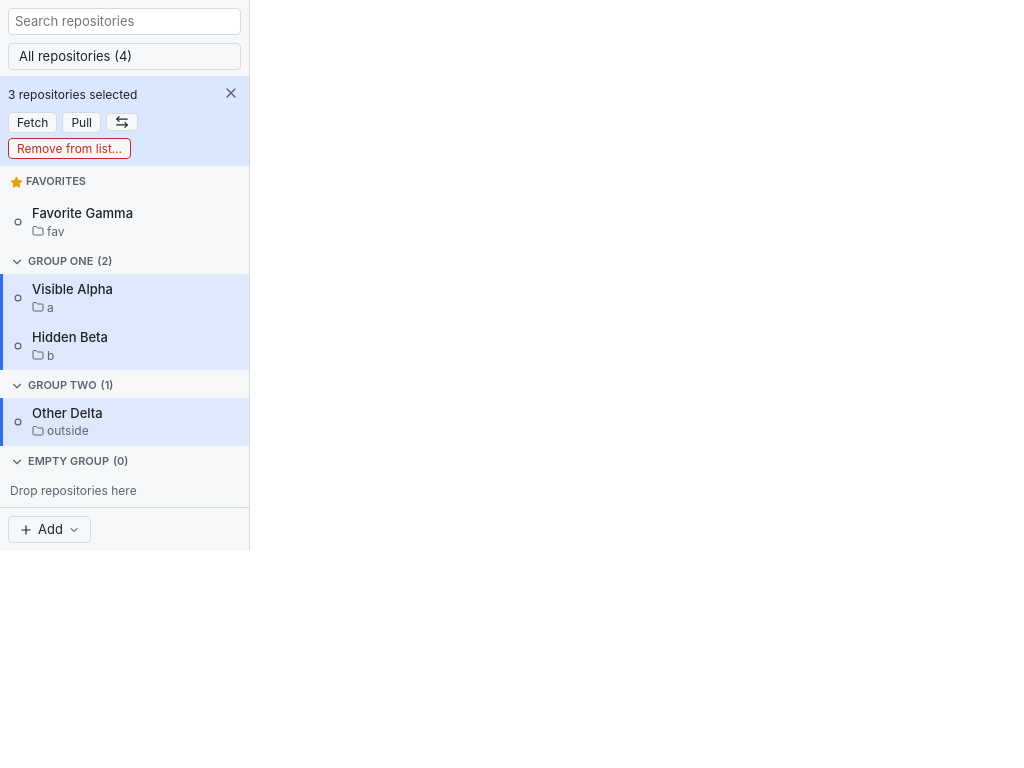
it: repository record removal › does nothing before confirmation or after canceling a group removal
The width and height of the screenshot is (1024, 768).
Right-click the button "Group One (2)" at (61, 262), box left=10, top=254, right=112, bottom=270
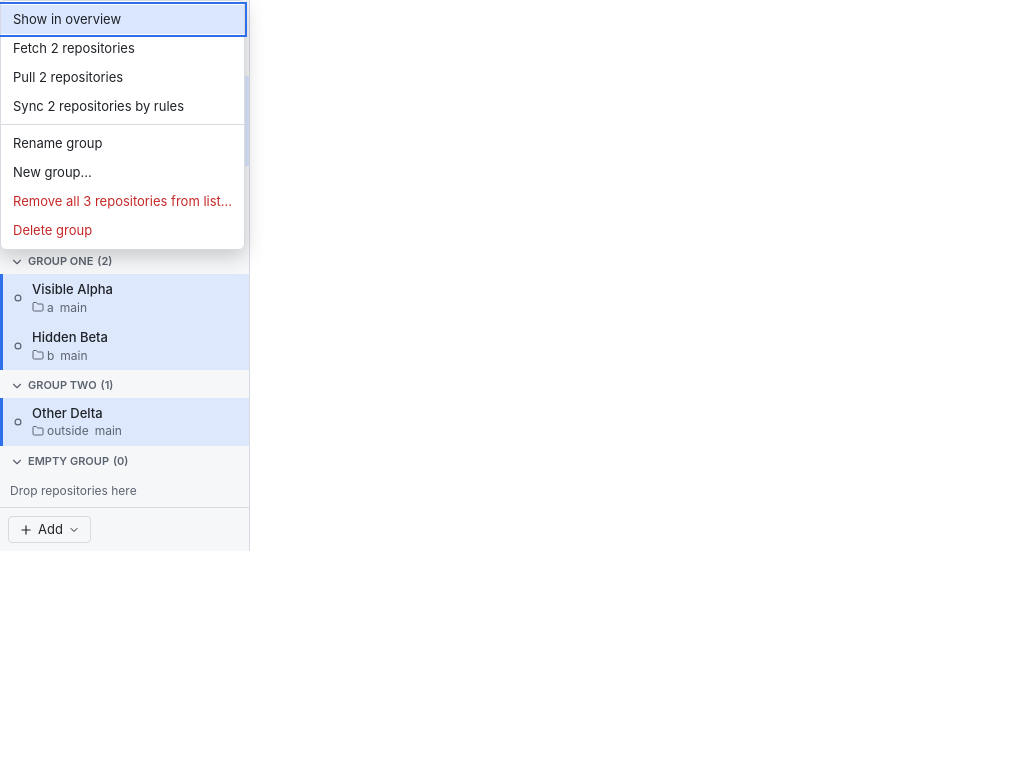
Click the menu item "Remove all 3 repositories from list…" at (123, 202), box left=1, top=187, right=244, bottom=216
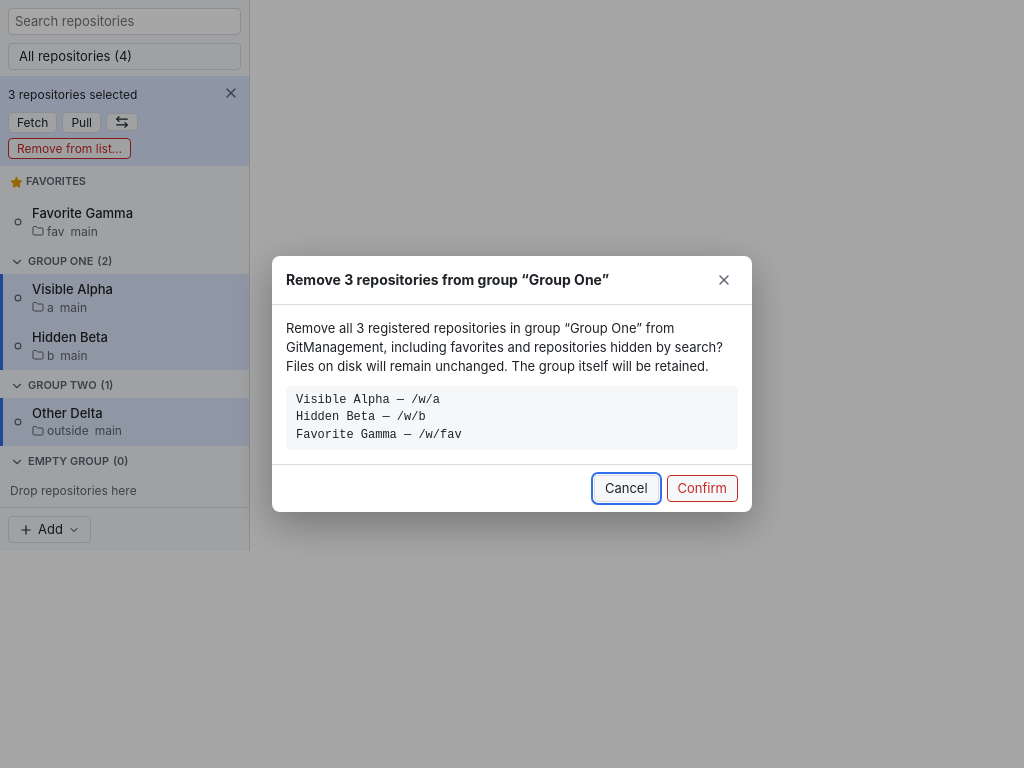
Result: the heading "Remove 3 repositories from group “Group One”" is shown at left=286, top=270, right=609, bottom=290
Result: the text "Files on disk will remain unchanged" shows "The group itself will be retained." at left=286, top=320, right=723, bottom=374
Result: the list item "Favorite Gamma — /w/fav" is shown at left=296, top=428, right=462, bottom=442
Click the button "Cancel" at (626, 488), box left=594, top=475, right=658, bottom=502
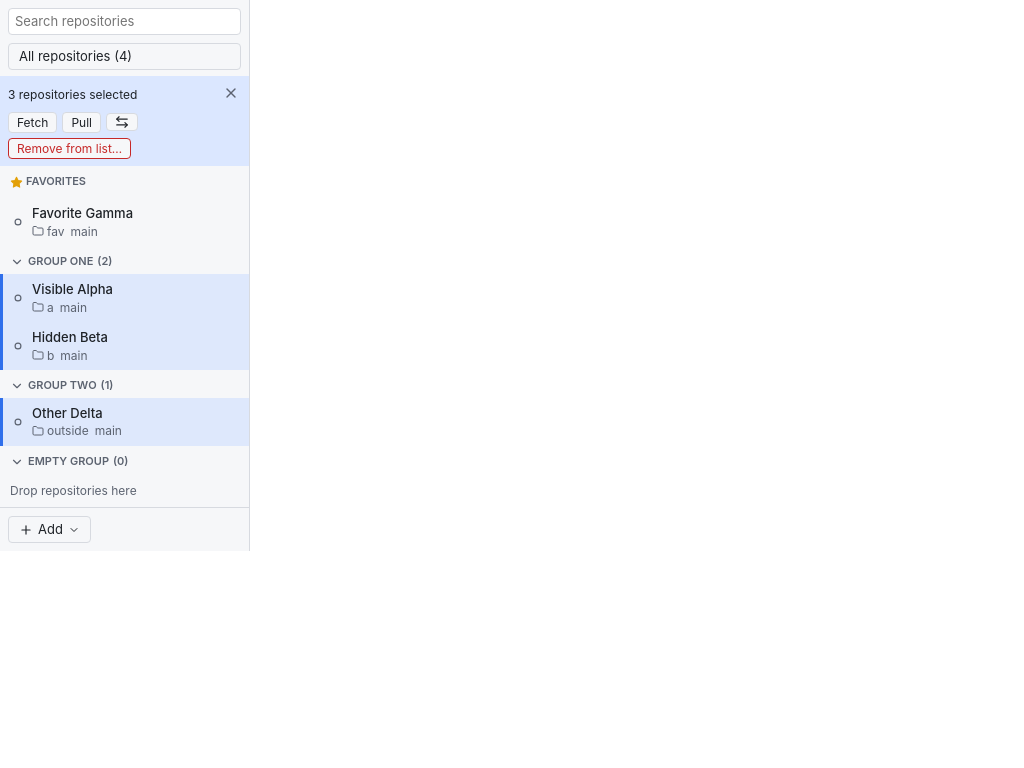
Result: the dialog is gone
